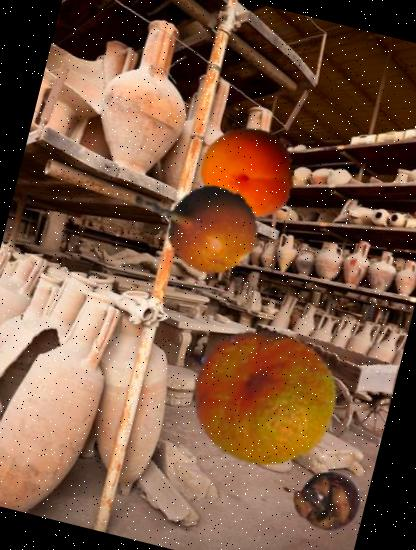Apricot: (191, 116, 305, 230)
Granadilla: (124, 142, 276, 294)
Mandarine: (176, 310, 352, 486)
Mangostan: (285, 460, 369, 544)
